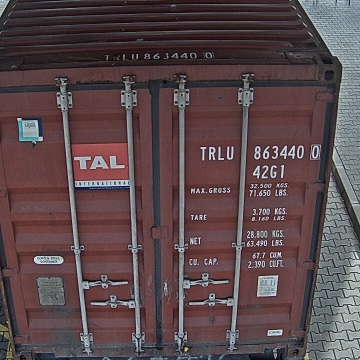serial_id: (199, 145, 319, 161)
